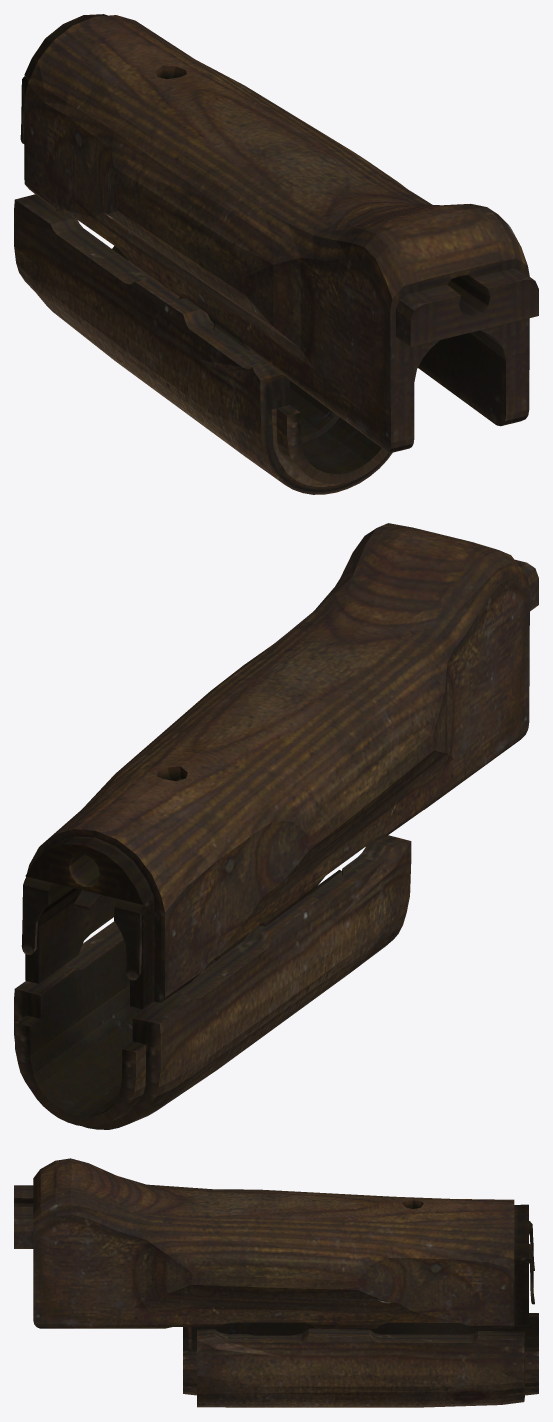
The picture shows the model from 3 angles, top to bottom: view 1: azimuth 30°, elevation 25°; view 2: azimuth 150°, elevation 25°; view 3: azimuth 270°, elevation 25°; orthographic projection. The views are drawn at different scales.
Parts seen in each view (by area): view 1: TW_59e898ee86f77427614bd225_PZ_Import; view 2: TW_59e898ee86f77427614bd225_PZ_Import; view 3: TW_59e898ee86f77427614bd225_PZ_Import.
Boxes of the visible parts, bbox=[...] form: TW_59e898ee86f77427614bd225_PZ_Import: bbox=[14, 14, 538, 494]; TW_59e898ee86f77427614bd225_PZ_Import: bbox=[14, 523, 538, 1129]; TW_59e898ee86f77427614bd225_PZ_Import: bbox=[14, 1158, 538, 1407].
Size of the model in its own units: 0.0267 by 0.0962 by 0.0459.
1 material, 1 textured.
